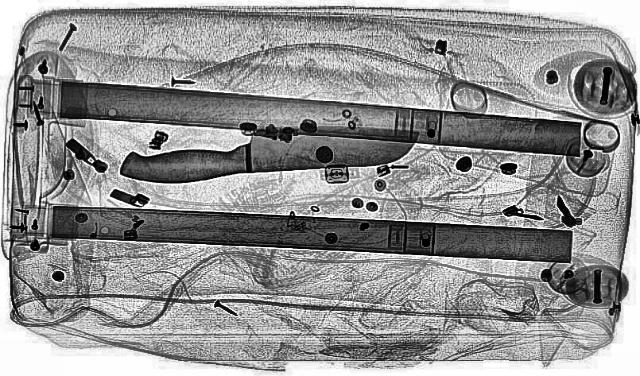Knife: (110, 117, 428, 187)
